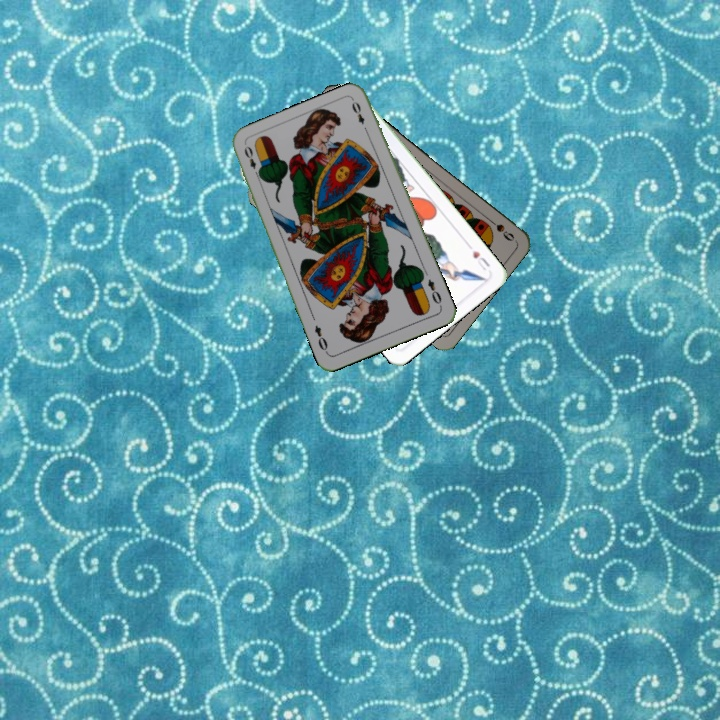EO: (240, 142, 263, 180), (424, 275, 444, 309)
HU: (464, 240, 492, 273)
S9: (483, 213, 517, 244)
